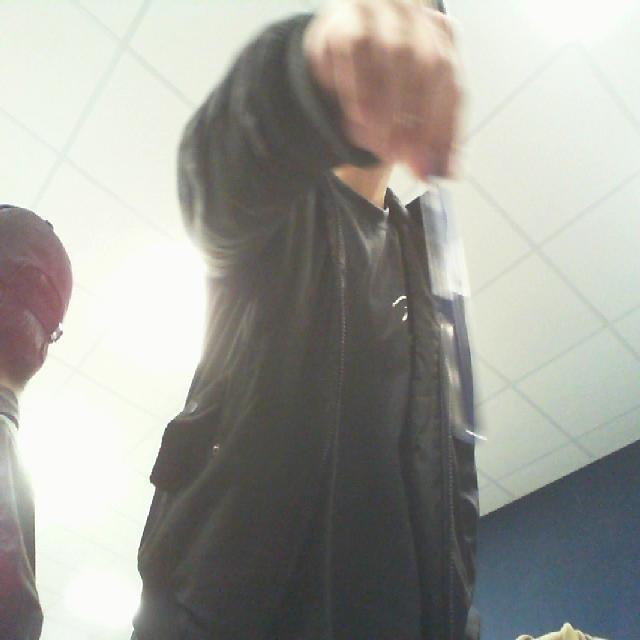Pen: (411, 114, 500, 467)
